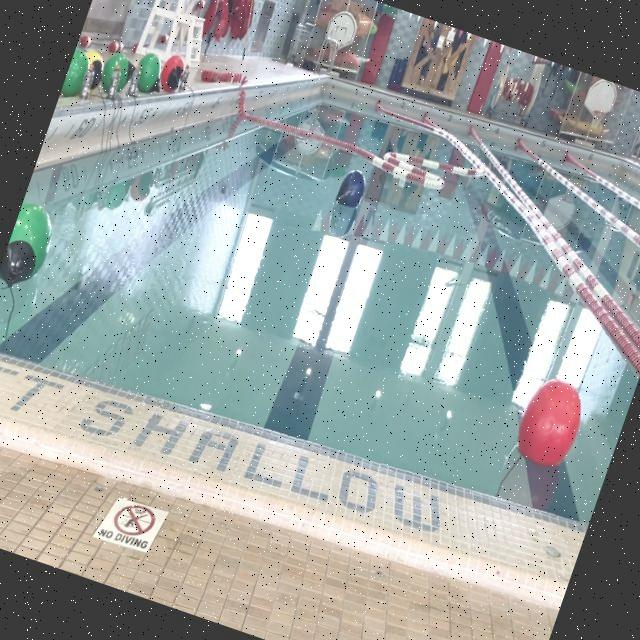buoy: (511, 372, 592, 472), (0, 197, 61, 293), (335, 167, 370, 210)
